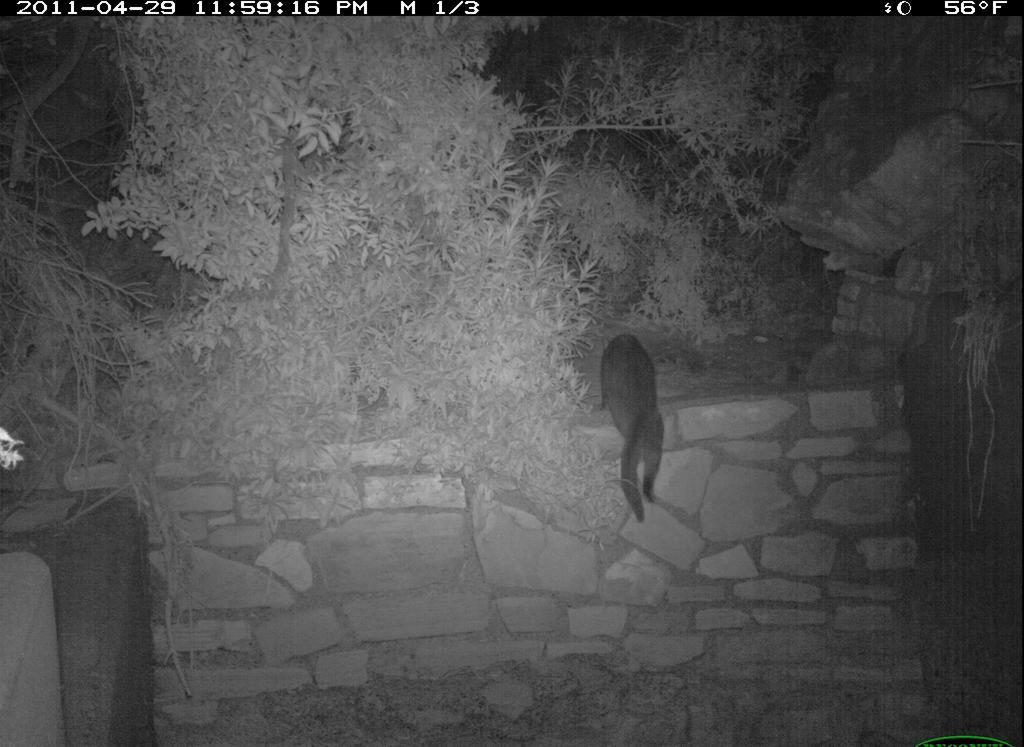cat: (594, 327, 673, 533)
